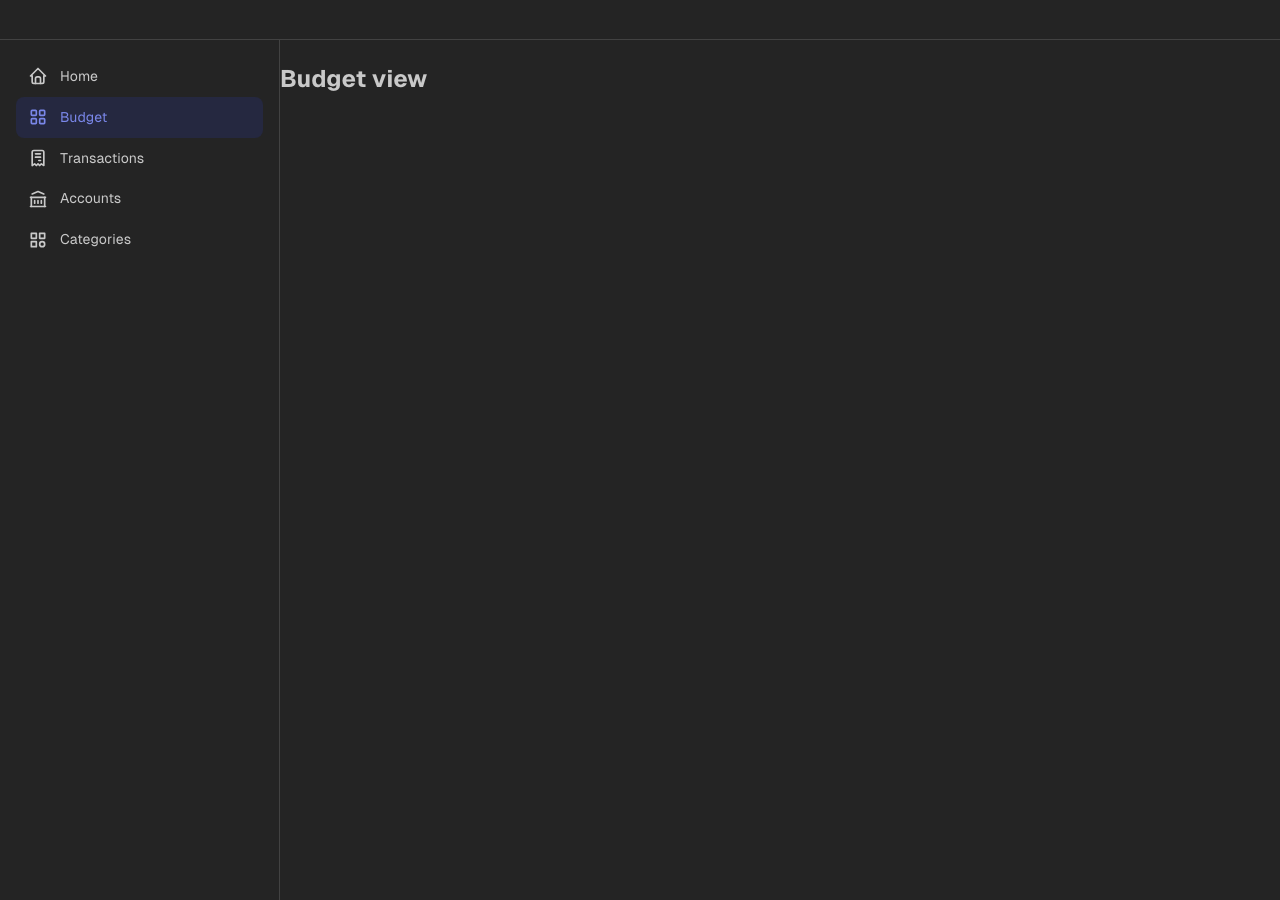
AppSidebar › navigates to Home from the sidebar
The image size is (1280, 900).
Click the button "Home" at (63, 76), box [28,66,98,86]
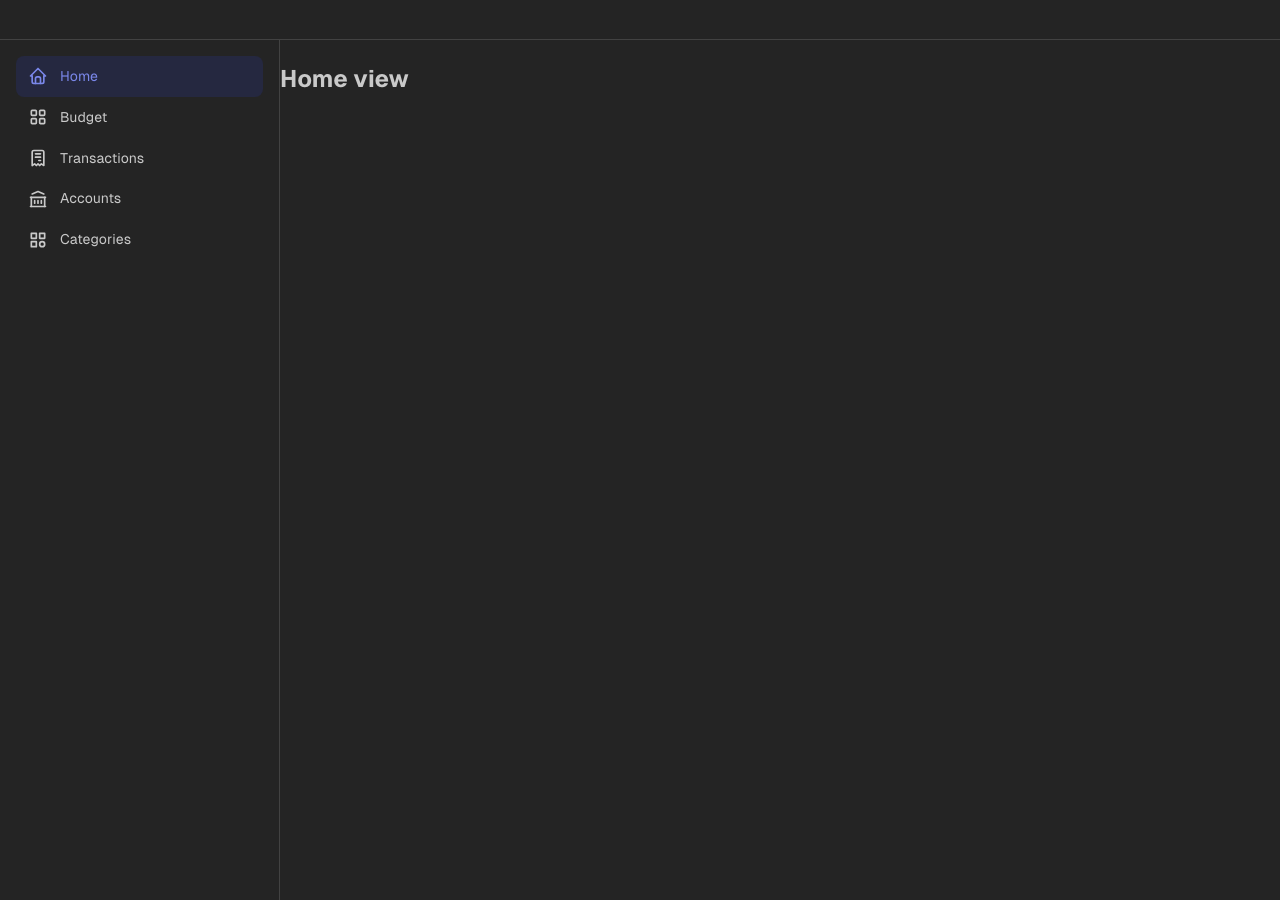
Now the heading "Home view" is shown, box [280,65,409,92]
